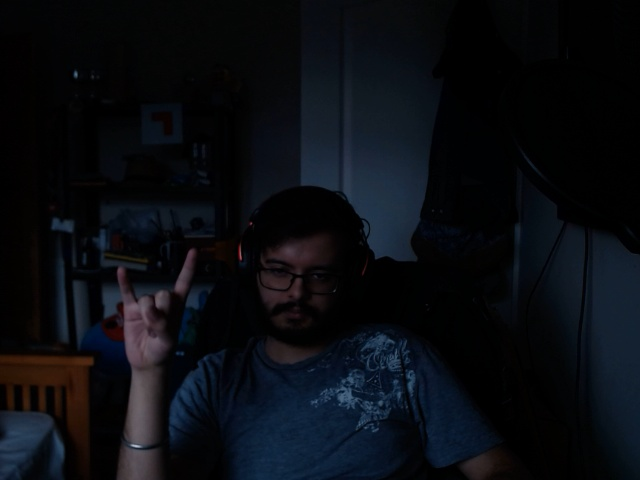Rock on: (104, 232, 207, 375)
